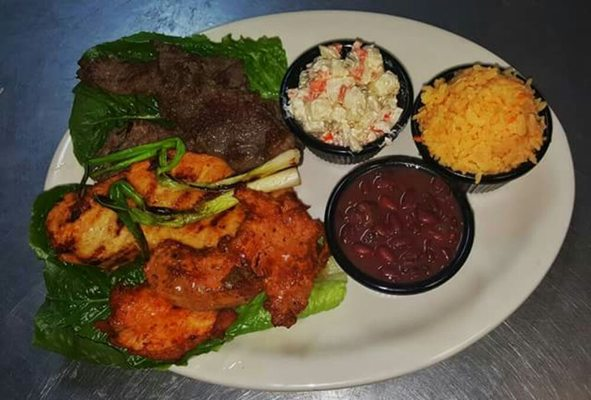sushi: (323, 158, 476, 296), (278, 36, 416, 165)
